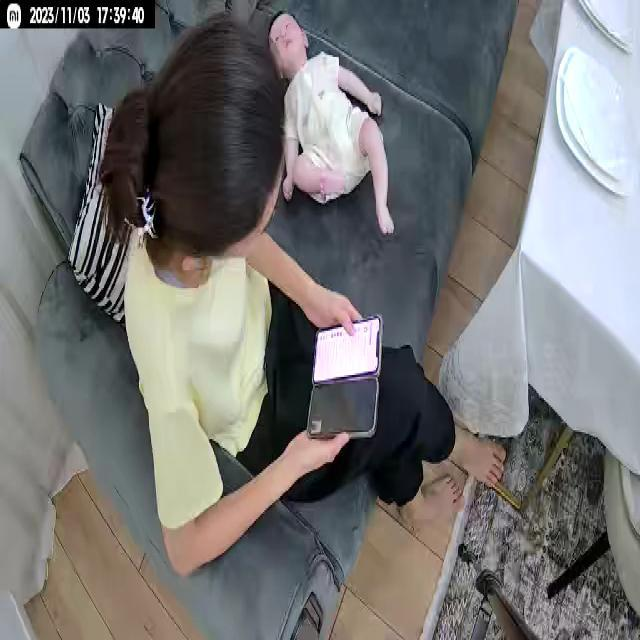baby: (265, 6, 398, 244)
